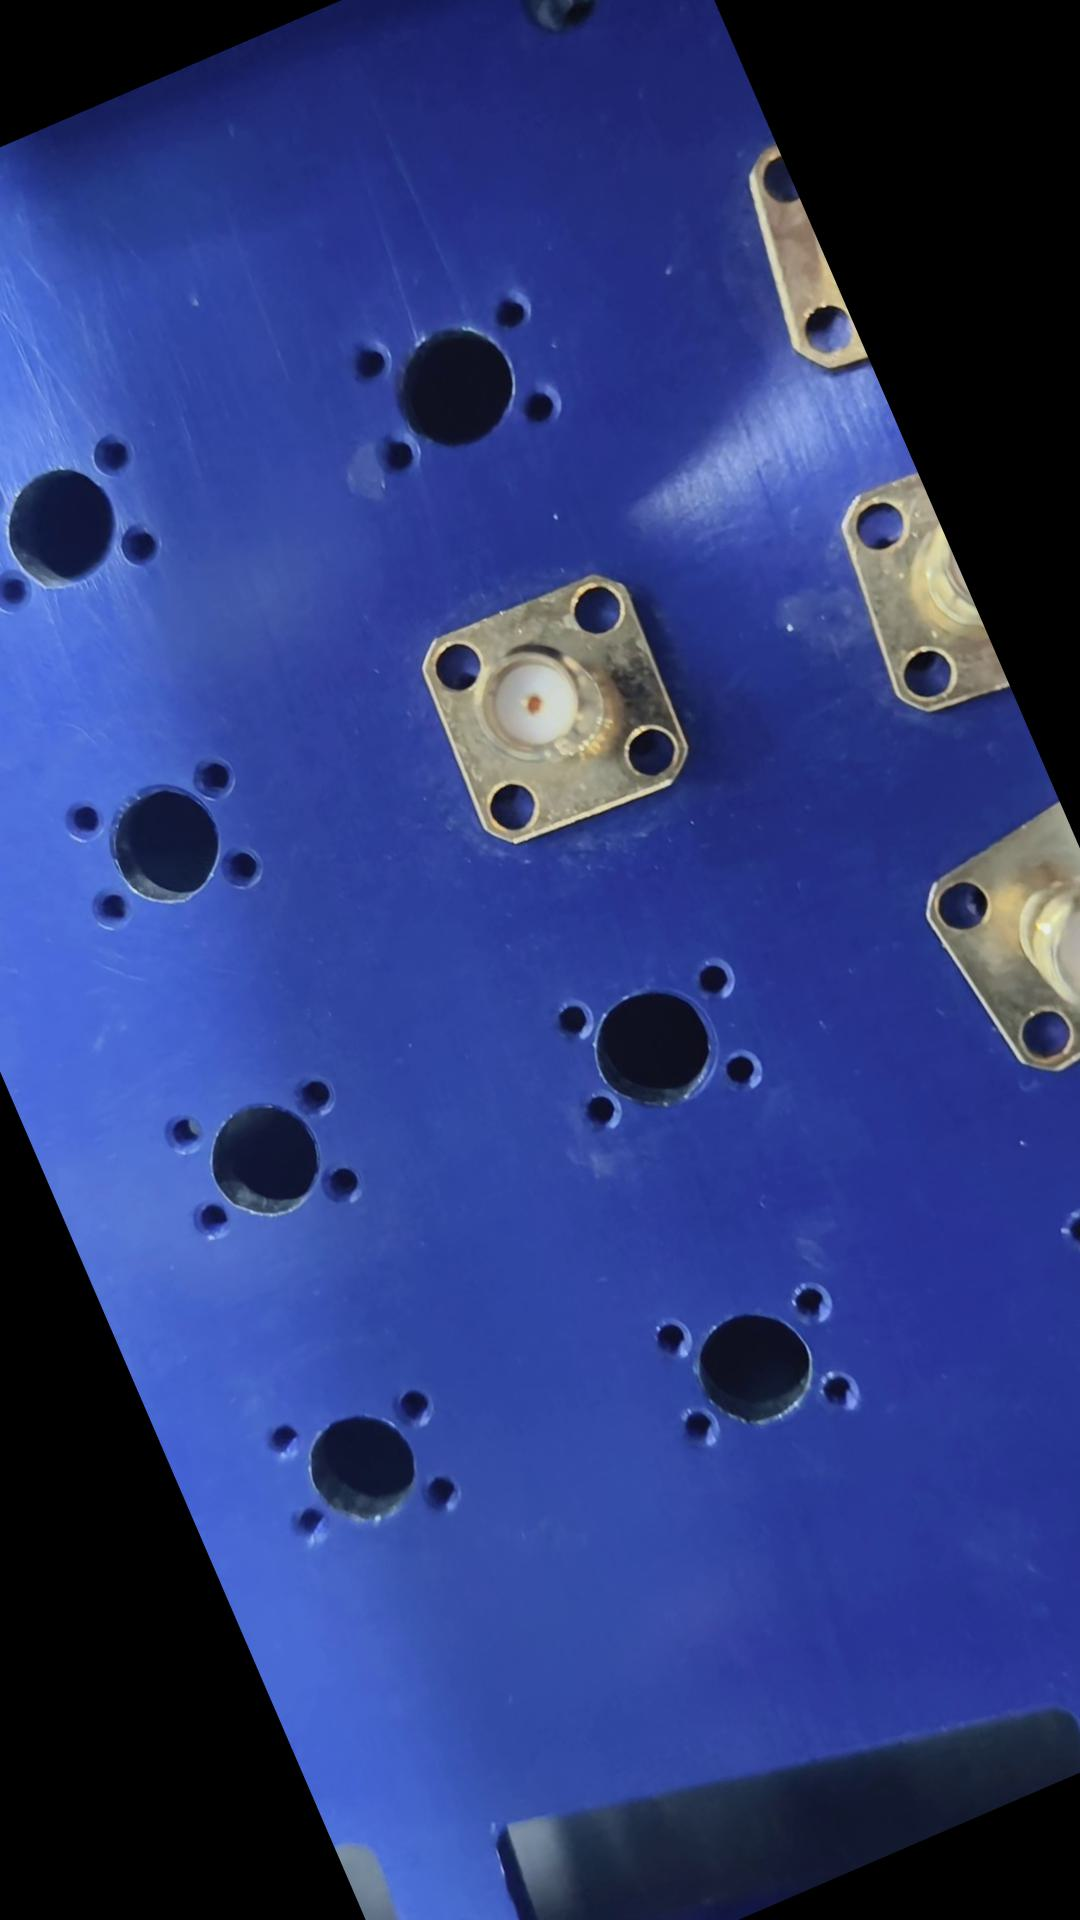SMA: (401, 560, 712, 865)
